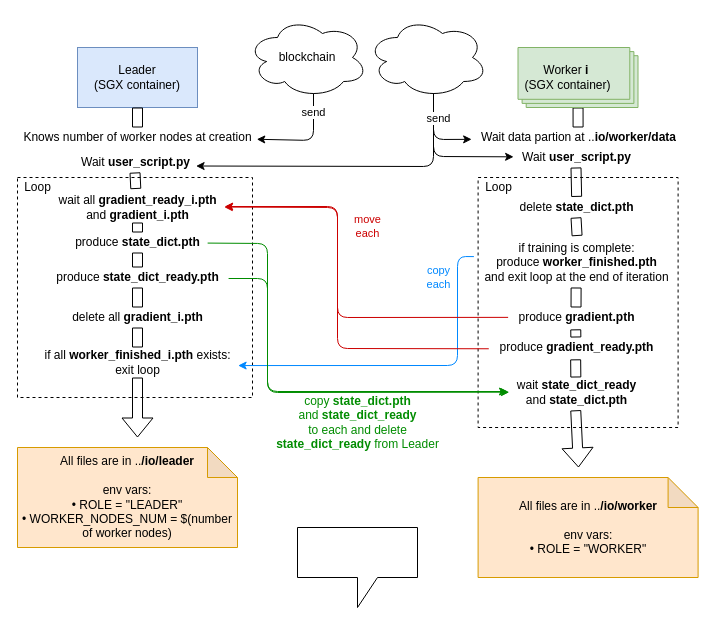
Some shapes in this 716 by 625 pixel diagram are drawn without their labels. Each missing label, with the box of its shape:
i goes from 1 to number of worker nodes: (296, 526, 418, 608)
user storage: (366, 16, 488, 98)
